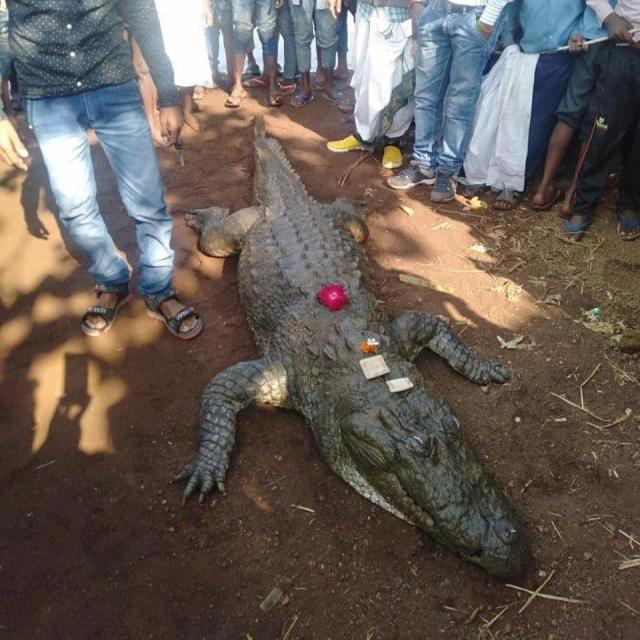crocodile: (151, 111, 563, 624)
